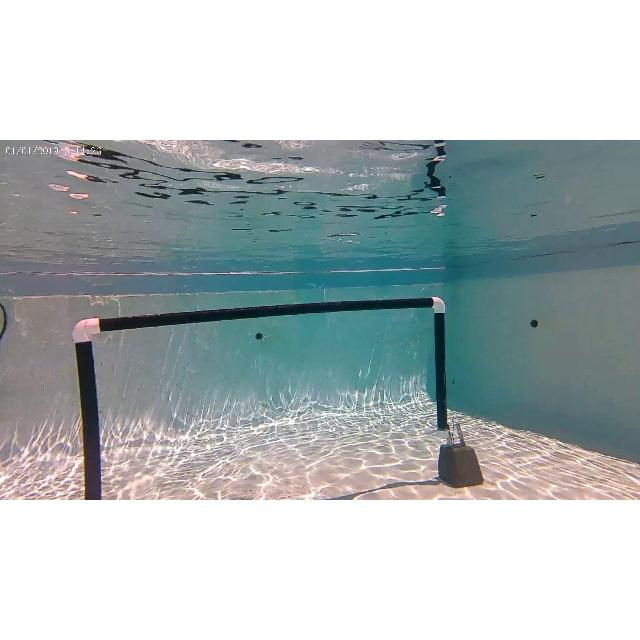prequal gate: (72, 296, 450, 499)
prequal gate leg l: (70, 314, 130, 501)
prequal gate leg r: (422, 292, 462, 454)
